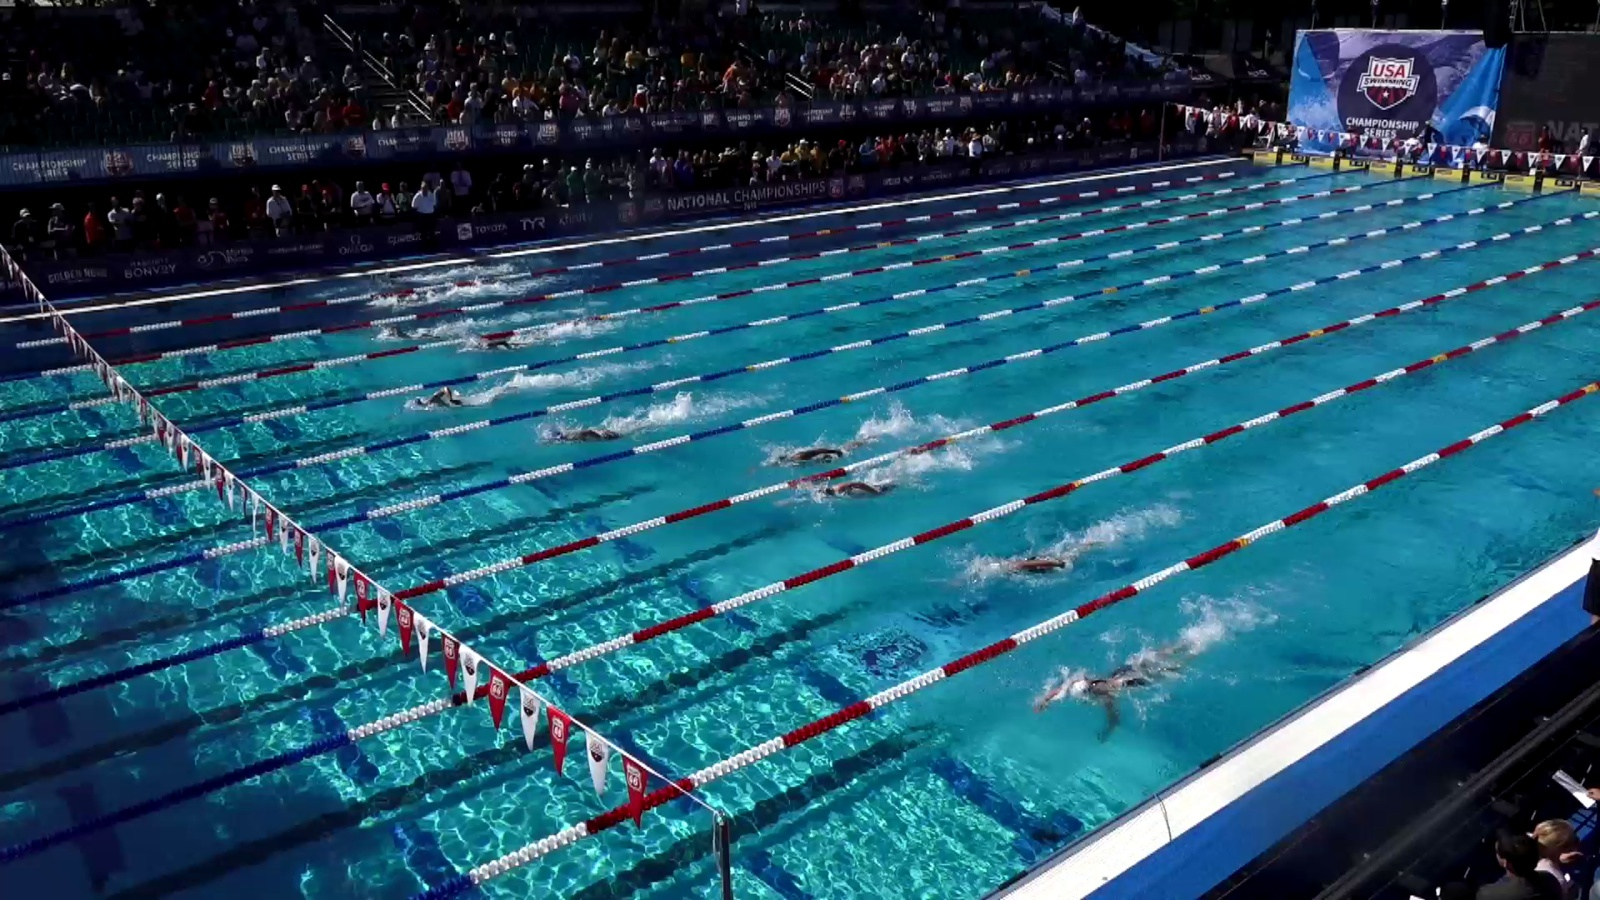swimmerw: (1031, 641, 1189, 741), (970, 537, 1079, 597), (749, 433, 878, 475), (816, 473, 910, 509), (533, 416, 631, 448), (401, 384, 484, 415), (474, 336, 538, 356), (367, 295, 438, 312), (377, 325, 442, 344), (362, 274, 415, 287)
